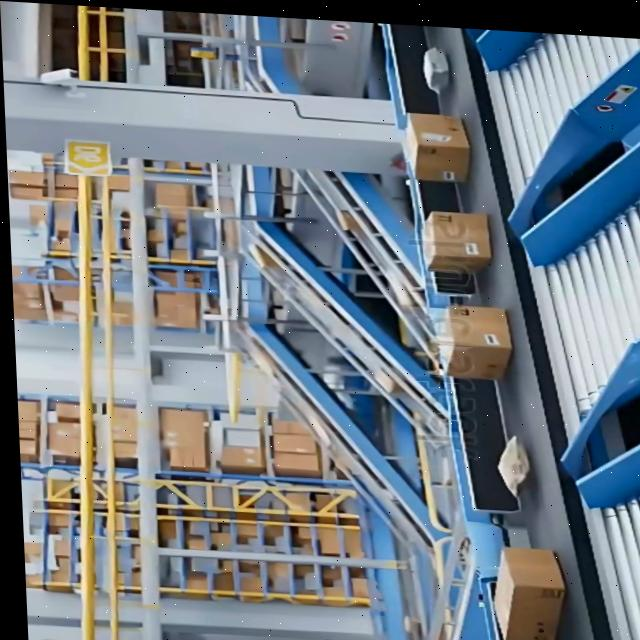product 1: (431, 302, 515, 381), (402, 111, 472, 183), (420, 208, 492, 275)
product 2: (492, 435, 536, 498)
